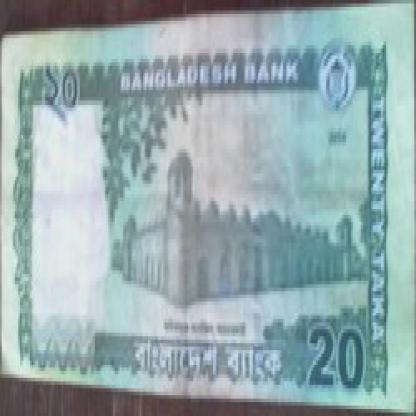Twenty: (300, 319, 370, 392), (38, 55, 93, 132)
